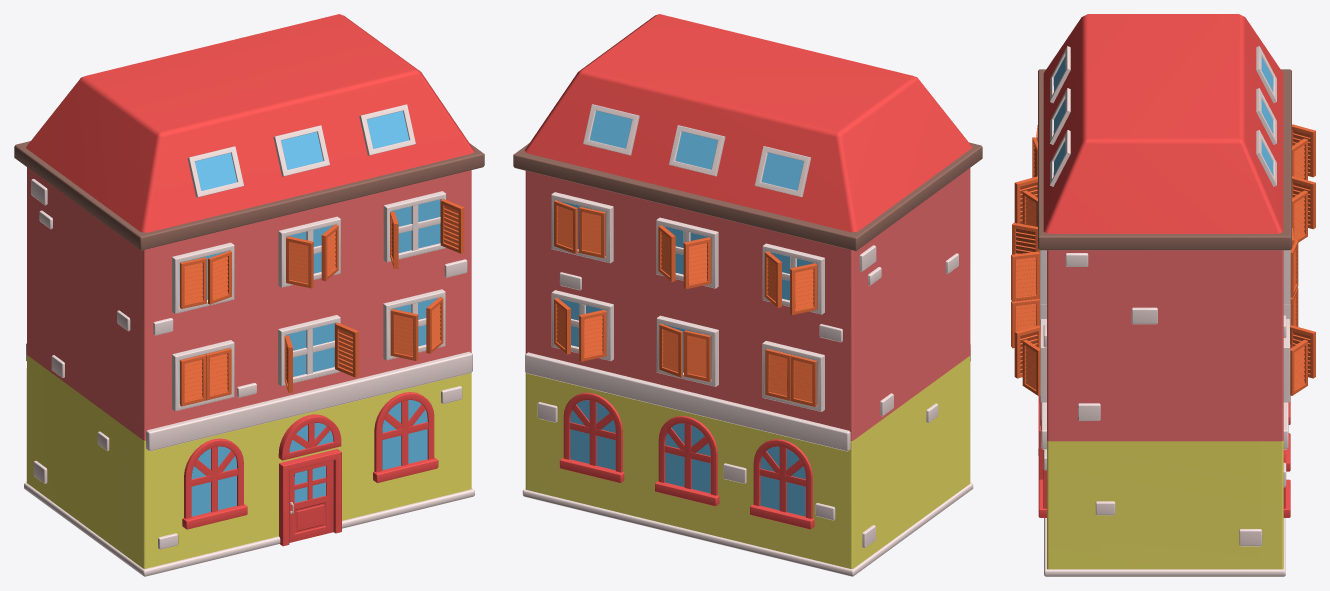
File: City_15_House_1.glb
3 renders of one model, left to right at view 1: azimuth 30°, elevation 25°; view 2: azimuth 150°, elevation 25°; view 3: azimuth 270°, elevation 25°, orthographic.
Visible parts, largest first — view 1: City_15_House_1; view 2: City_15_House_1; view 3: City_15_House_1.
Boxes of the visible parts, x1,y1,x2,y2 form: City_15_House_1: (14,14,484,576); City_15_House_1: (513,14,982,576); City_15_House_1: (1011,14,1315,576).
Size of the model in its own units: 10.8 by 12.6 by 8.27.
Materials: 1 (1 with a texture image).
